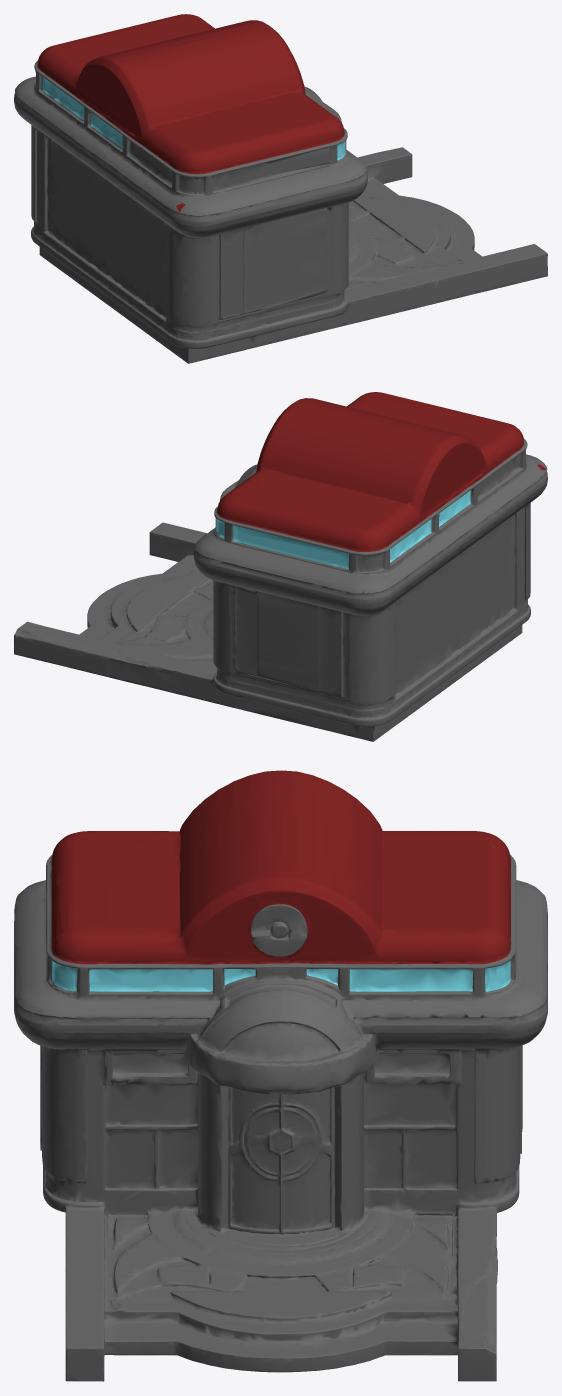
Rendered from Centro1.obj.
3 renders of one model, top to bottom at view 1: azimuth 30°, elevation 25°; view 2: azimuth 150°, elevation 25°; view 3: azimuth 270°, elevation 25°, orthographic. The views are drawn at different scales.
Visible parts, largest first — view 1: tripo_convert_be4603ec_49a2_46d4_946a_661abb6bcb52:Mesh; view 2: tripo_convert_be4603ec_49a2_46d4_946a_661abb6bcb52:Mesh; view 3: tripo_convert_be4603ec_49a2_46d4_946a_661abb6bcb52:Mesh.
Part boxes in pixels (left/top/right/bottom): tripo_convert_be4603ec_49a2_46d4_946a_661abb6bcb52:Mesh: left=14, top=14, right=547, bottom=363; tripo_convert_be4603ec_49a2_46d4_946a_661abb6bcb52:Mesh: left=14, top=392, right=547, bottom=741; tripo_convert_be4603ec_49a2_46d4_946a_661abb6bcb52:Mesh: left=14, top=770, right=547, bottom=1381.
Size of the model in its own units: 28.88 by 18.07 by 24.32.
